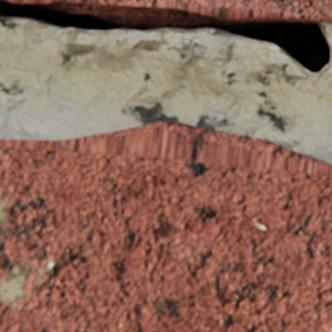brick: (0, 120, 331, 331), (4, 0, 331, 22)
crack: (0, 0, 330, 74)
